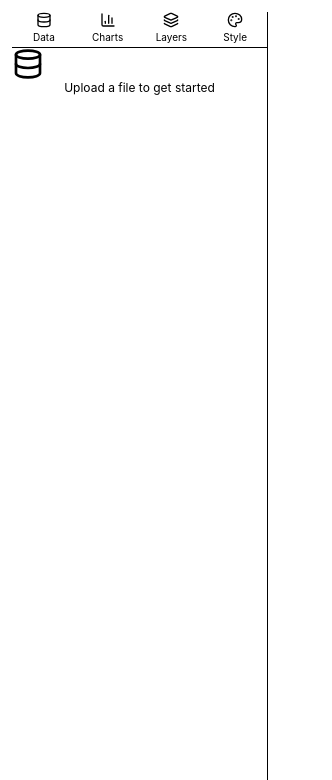
Scenario: Sidebar › Layers tab - empty state with no layers
Step 1. Click the button "Layers" → click(171, 30), box [140,12,203,47]
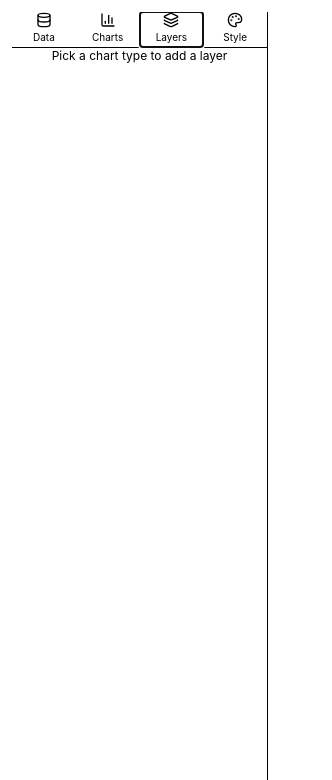
expect the text "Pick a chart type to add a layer" is shown: met, box [52,48,227,63]
